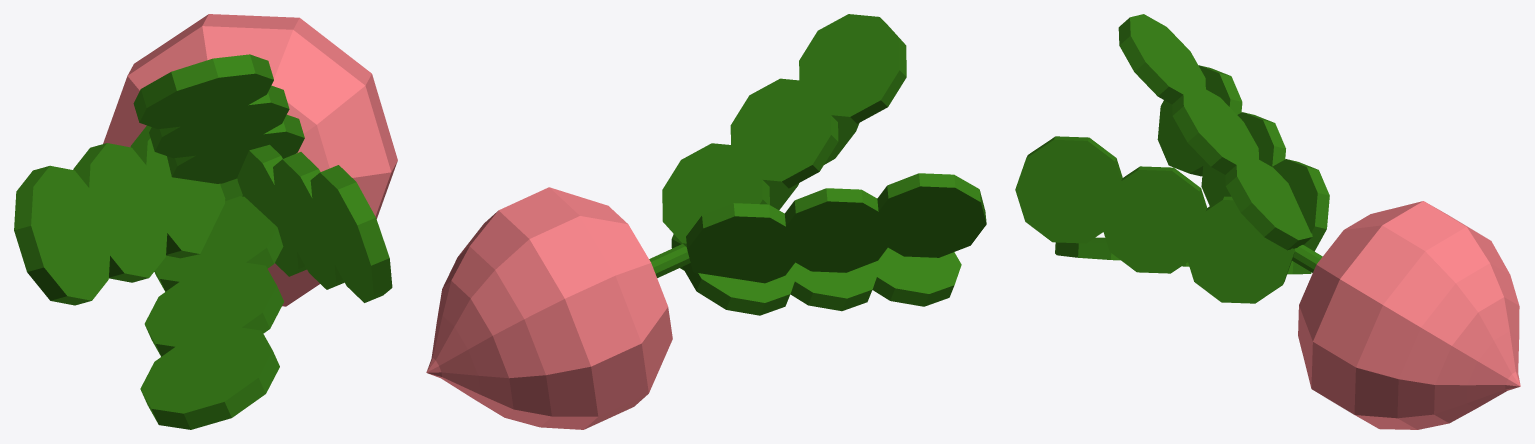
The model's file is findradish2.gltf.
3 renders of one model, left to right at view 1: azimuth 30°, elevation 25°; view 2: azimuth 150°, elevation 25°; view 3: azimuth 270°, elevation 25°, orthographic. The views are drawn at different scales.
Visible parts, largest first — view 1: model1.360, model1.361; view 2: model1.360, model1.361; view 3: model1.360, model1.361.
Part boxes in pixels (<box>): model1.360: <box>14,54,392,429</box>; model1.361: <box>103,14,397,306</box>; model1.360: <box>649,14,986,315</box>; model1.361: <box>426,187,672,429</box>; model1.360: <box>1015,14,1329,303</box>; model1.361: <box>1298,201,1520,429</box>.
Size of the model in its own units: 4.69 by 3.71 by 5.3.
